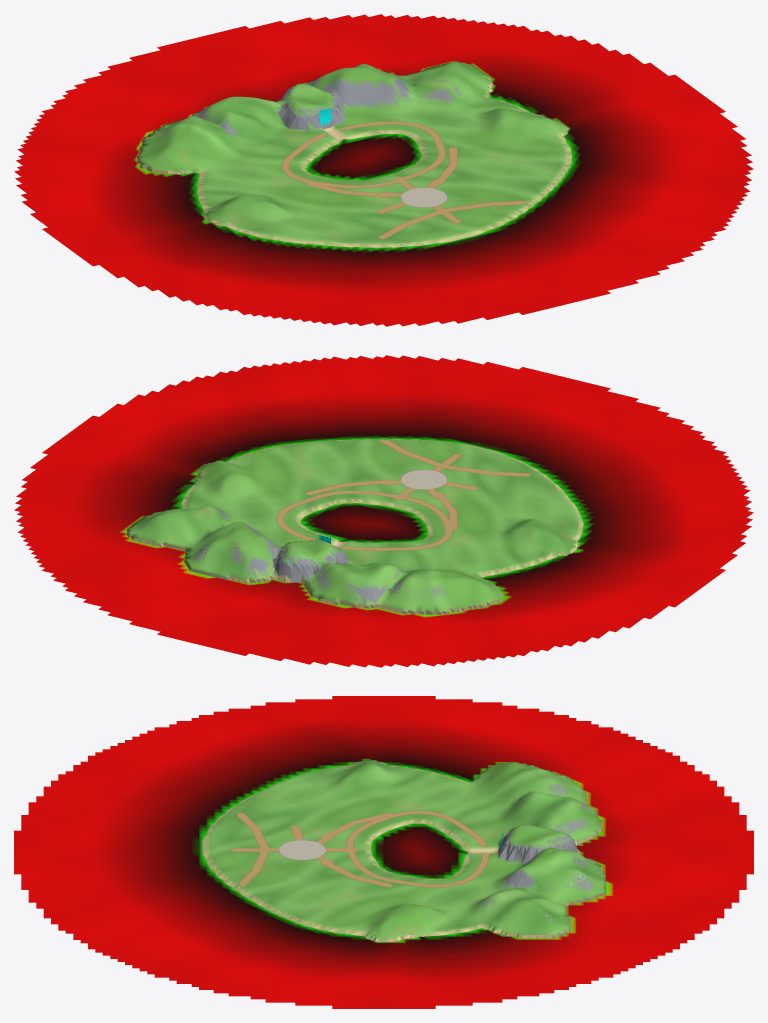
File: zone_lantern.glb
3 views of the same model, one above another, from view 1: azimuth 30°, elevation 25°; view 2: azimuth 150°, elevation 25°; view 3: azimuth 270°, elevation 25° (orthographic).
Parts seen in each view (by area): view 1: water, terrain_1_1, terrain_1_0, terrain_0_1__lod, terrain_1_1__lod, terrain_1_0__lod, terrain_2_1, terrain_2_1__lod, paths, terrain_0_1, terrain_1_2, terrain_0_0 (+6 smaller); view 2: water, terrain_1_0, terrain_1_1, terrain_0_1__lod, terrain_1_1__lod, paths, terrain_1_0__lod, terrain_2_1__lod, terrain_2_1, terrain_0_1, terrain_1_2, terrain_0_0 (+5 smaller); view 3: water, terrain_1_1, terrain_1_0, terrain_1_1__lod, terrain_0_1__lod, terrain_2_1, terrain_2_1__lod, paths, terrain_1_0__lod, terrain_0_1, terrain_1_2, terrain_2_0 (+6 smaller).
Boxes of the visible parts, bbox=[...] form: water: bbox=[14, 14, 753, 326]; terrain_1_1: bbox=[251, 112, 516, 224]; terrain_1_0: bbox=[201, 64, 411, 151]; terrain_0_1__lod: bbox=[174, 153, 347, 241]; terrain_1_1__lod: bbox=[252, 112, 514, 222]; terrain_1_0__lod: bbox=[197, 66, 418, 152]; terrain_2_1: bbox=[420, 95, 571, 183]; terrain_2_1__lod: bbox=[427, 95, 572, 182]; paths: bbox=[281, 121, 527, 239]; terrain_0_1: bbox=[180, 156, 344, 241]; terrain_1_2: bbox=[348, 184, 536, 245]; terrain_0_0: bbox=[137, 110, 234, 174]; water: bbox=[14, 355, 753, 667]; terrain_1_0: bbox=[190, 521, 412, 607]; terrain_1_1: bbox=[251, 453, 516, 565]; terrain_0_1__lod: bbox=[420, 494, 583, 585]; terrain_1_1__lod: bbox=[255, 453, 510, 565]; paths: bbox=[276, 440, 530, 550]; terrain_1_0__lod: bbox=[192, 523, 419, 607]; terrain_2_1__lod: bbox=[182, 443, 347, 522]; terrain_2_1: bbox=[184, 443, 347, 524]; terrain_0_1: bbox=[430, 495, 583, 582]; terrain_1_2: bbox=[350, 439, 543, 493]; terrain_0_0: bbox=[365, 566, 503, 614]; water: bbox=[14, 696, 753, 1008]; terrain_1_1: bbox=[285, 808, 482, 891]; terrain_1_0: bbox=[482, 792, 605, 893]; terrain_1_1__lod: bbox=[285, 808, 482, 891]; terrain_0_1__lod: bbox=[285, 761, 482, 808]; terrain_2_1: bbox=[285, 892, 482, 941]; terrain_2_1__lod: bbox=[285, 892, 482, 942]; paths: bbox=[231, 810, 489, 887]; terrain_1_0__lod: bbox=[482, 796, 602, 891]; terrain_0_1: bbox=[285, 760, 482, 808]; terrain_1_2: bbox=[205, 808, 285, 892]; terrain_2_0: bbox=[482, 875, 605, 937].
Bounding box in the file's own units: 300 × 17.96 × 300.
